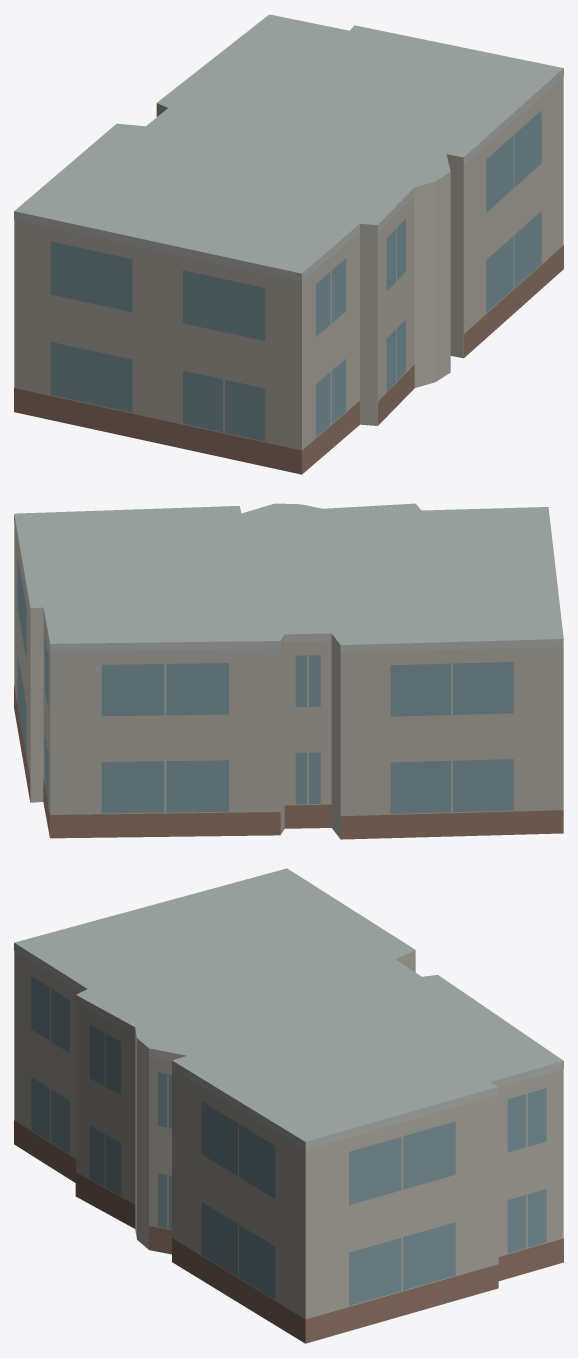
Rendered from survey-upis-32968853.glb.
The picture shows the model from 3 angles, top to bottom: view 1: azimuth 30°, elevation 25°; view 2: azimuth 150°, elevation 25°; view 3: azimuth 270°, elevation 25°; orthographic projection. The views are drawn at different scales.
Parts seen in each view (by area): view 1: survey-upis-32968853.tmp; view 2: survey-upis-32968853.tmp; view 3: survey-upis-32968853.tmp.
Part boxes in pixels (x1,y1,x2,y2): survey-upis-32968853.tmp: (14,14,563,474); survey-upis-32968853.tmp: (14,503,563,839); survey-upis-32968853.tmp: (14,868,563,1343).
Bounding box in the file's own units: 17.77 × 6.1 × 15.08.
